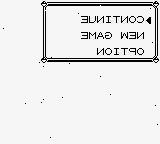seleccionado: (78, 13, 153, 25)
texto: (41, 1, 160, 63)
